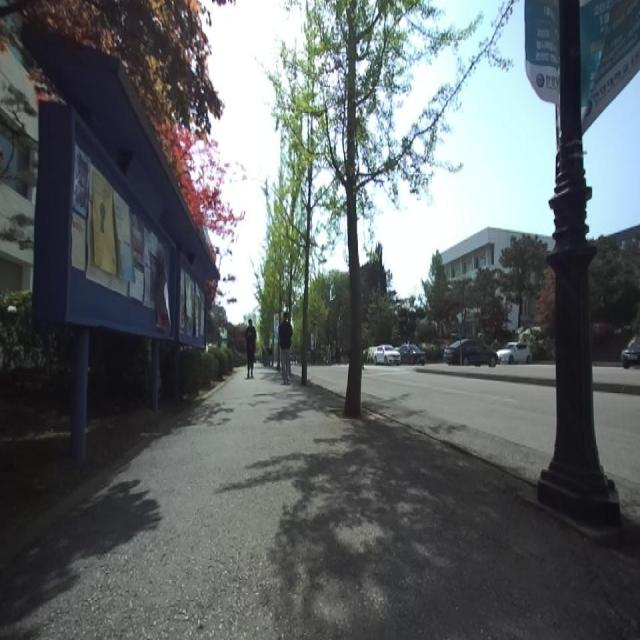sidewalk: (0, 369, 640, 638)
